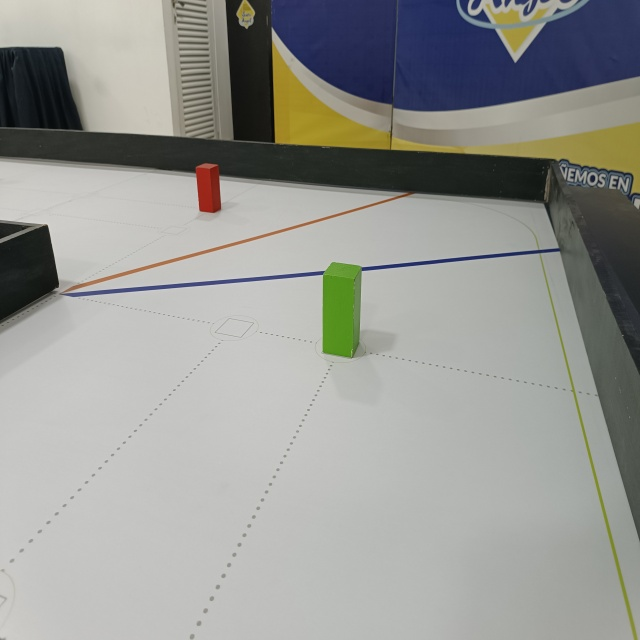blue line: (63, 244, 566, 300)
green rectangular prism: (318, 259, 361, 361)
orange line: (55, 186, 418, 295)
red rectangular prism: (193, 164, 223, 215)
